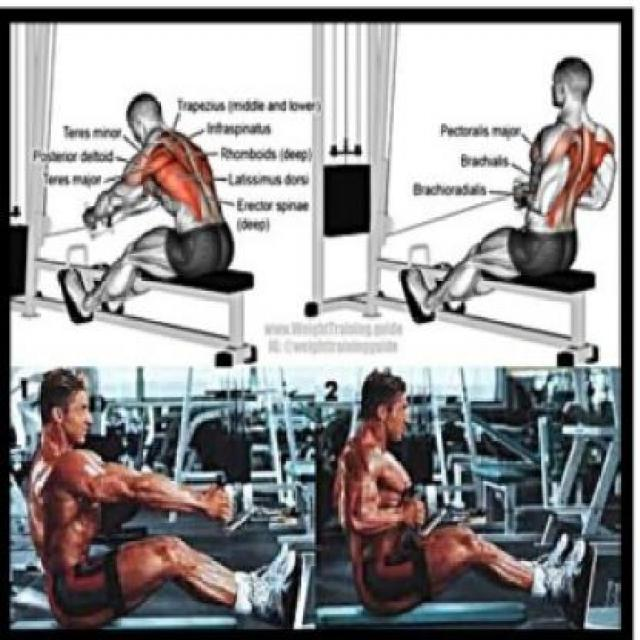Seated Cable Rows: (307, 4, 640, 363), (0, 8, 303, 366), (10, 341, 309, 640)
